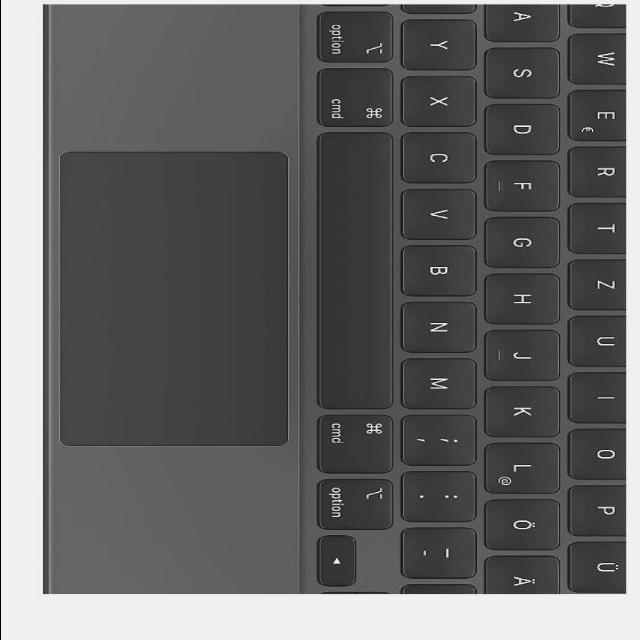a: (483, 6, 564, 42)
ae: (486, 555, 566, 593)
alt-left: (316, 7, 398, 63)
altgr-right: (316, 475, 398, 531)
b: (403, 243, 483, 297)
c: (402, 129, 483, 182)
comma: (405, 411, 483, 464)
d: (485, 101, 566, 154)
e: (570, 89, 629, 142)
f: (486, 159, 566, 211)
g: (486, 215, 566, 268)
h: (485, 271, 566, 323)
i: (572, 370, 630, 423)
j: (485, 328, 567, 380)
k: (486, 384, 566, 437)
l: (485, 440, 566, 493)
m: (403, 354, 483, 408)
minus: (404, 525, 482, 578)
n: (402, 298, 483, 352)
o: (571, 426, 630, 479)
oe: (485, 497, 566, 550)
p: (571, 482, 629, 536)
point: (405, 468, 483, 521)
r: (570, 145, 629, 198)
s: (485, 45, 566, 98)
space: (316, 129, 400, 409)
t: (570, 202, 629, 255)
u: (569, 314, 629, 368)
ue: (569, 541, 629, 595)
v: (403, 185, 483, 239)
w: (572, 31, 630, 84)
x: (403, 72, 483, 126)
y: (403, 16, 483, 70)
z: (571, 257, 630, 310)
